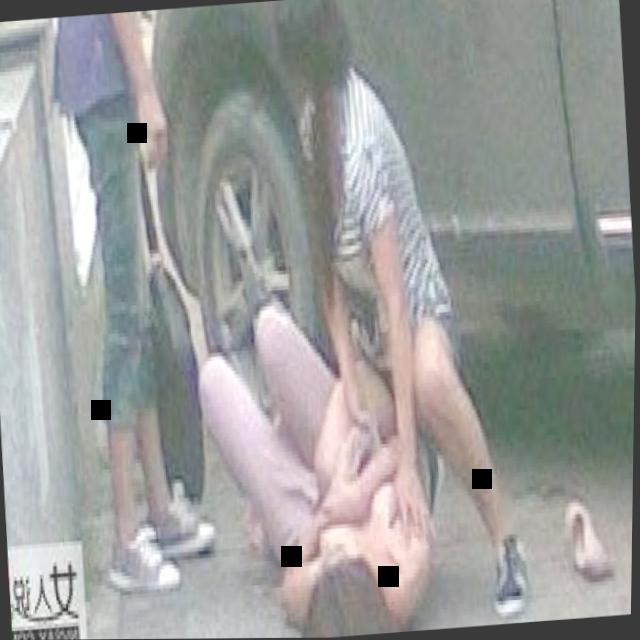Fall-Detected: (186, 228, 451, 639)
